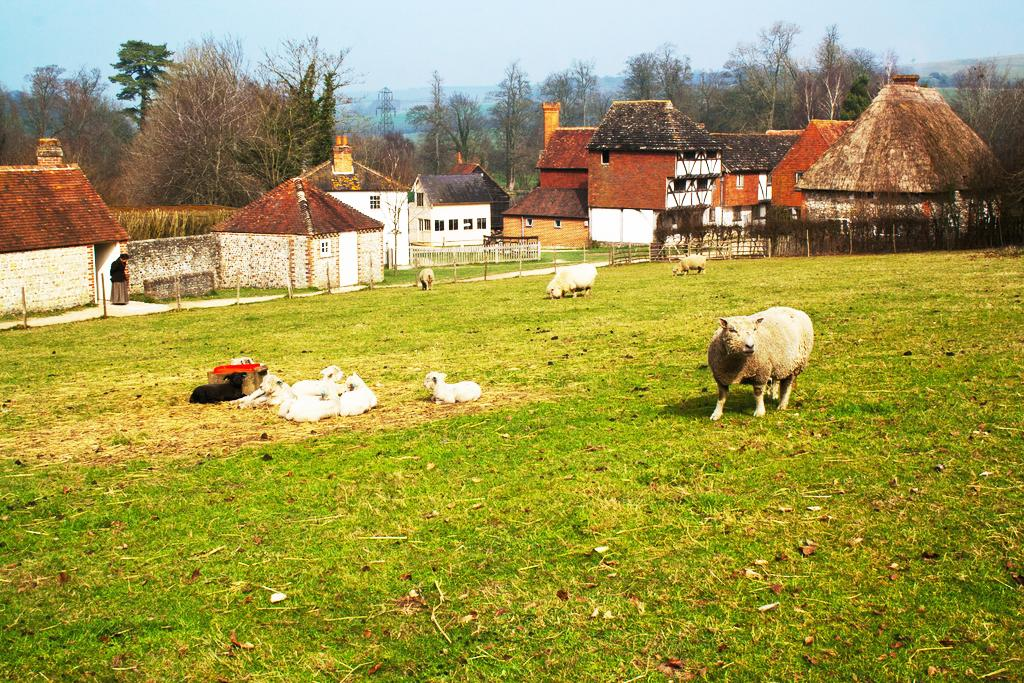Sheep: (704, 308, 817, 422), (236, 371, 295, 412), (286, 386, 344, 424), (293, 364, 350, 401), (191, 370, 249, 405), (546, 266, 602, 300), (337, 375, 380, 418), (422, 371, 482, 401), (672, 253, 707, 277), (418, 268, 436, 290)
